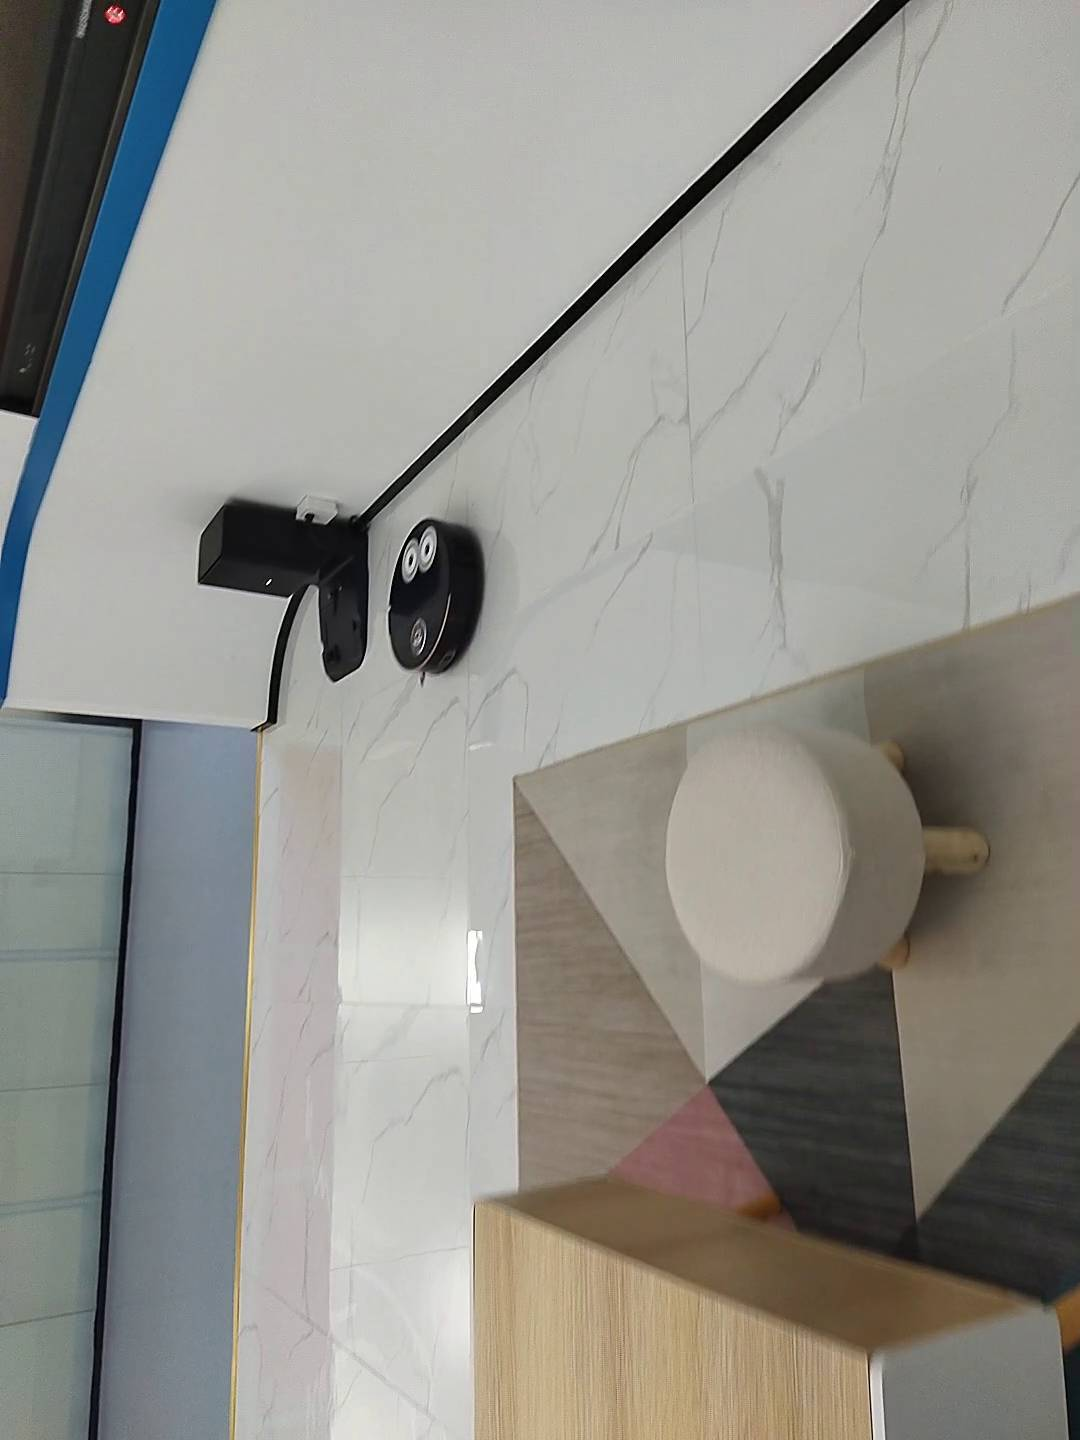dust collecting barrel: (193, 495, 377, 681)
